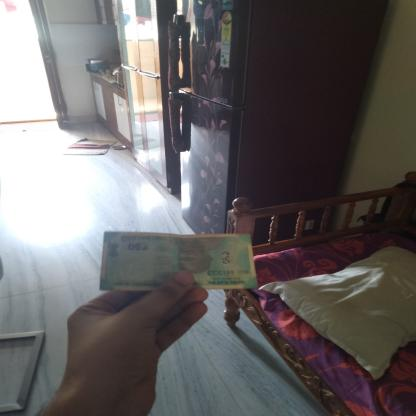New50Front: (104, 233, 256, 290)
